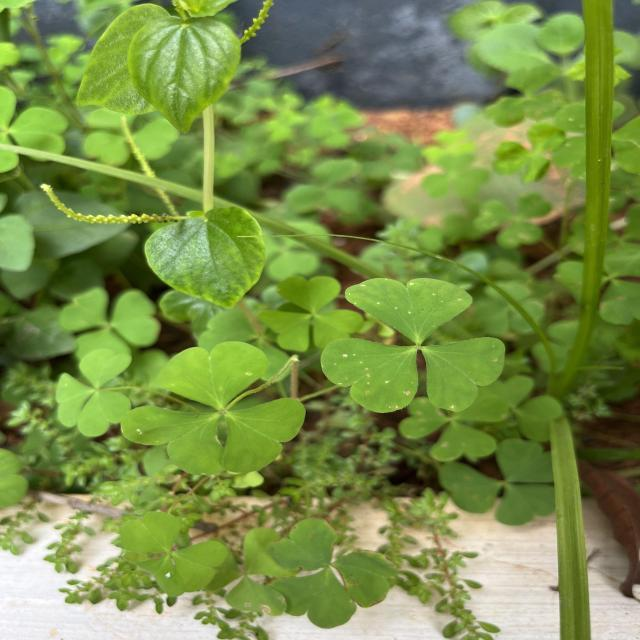Oxalis corniculata: (319, 276, 507, 414), (120, 340, 308, 477), (268, 516, 398, 630), (438, 437, 552, 527), (120, 510, 228, 598), (54, 348, 132, 438)
